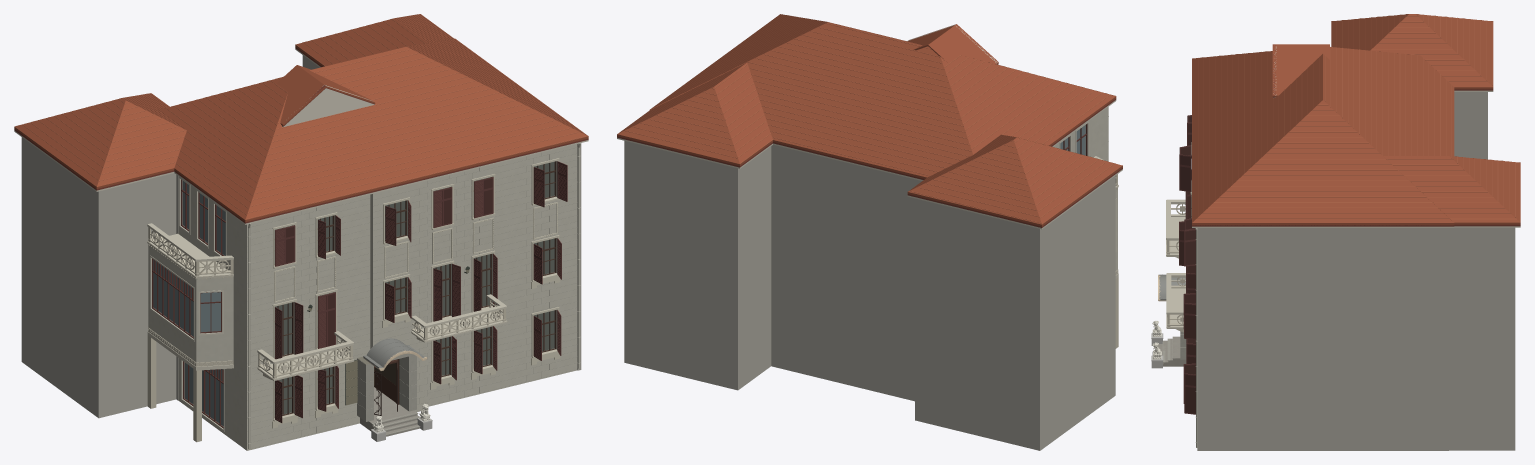
The model's file is full-source.glb.
3 views of the same model, side by side, from view 1: azimuth 30°, elevation 25°; view 2: azimuth 150°, elevation 25°; view 3: azimuth 270°, elevation 25° (orthographic). The views are drawn at different scales.
Parts seen in each view (by area): view 1: 怡和医院旧址庭院立面与拱顶门廊; view 2: 怡和医院旧址庭院立面与拱顶门廊; view 3: 怡和医院旧址庭院立面与拱顶门廊.
Boxes of the visible parts, x1,y1,x2,y2 form: 怡和医院旧址庭院立面与拱顶门廊: (14, 14, 588, 450); 怡和医院旧址庭院立面与拱顶门廊: (617, 14, 1122, 450); 怡和医院旧址庭院立面与拱顶门廊: (1151, 14, 1520, 450).
Size of the model in its own units: 28.98 by 20.29 by 22.41.
Materials: 37 (3 with a texture image).
